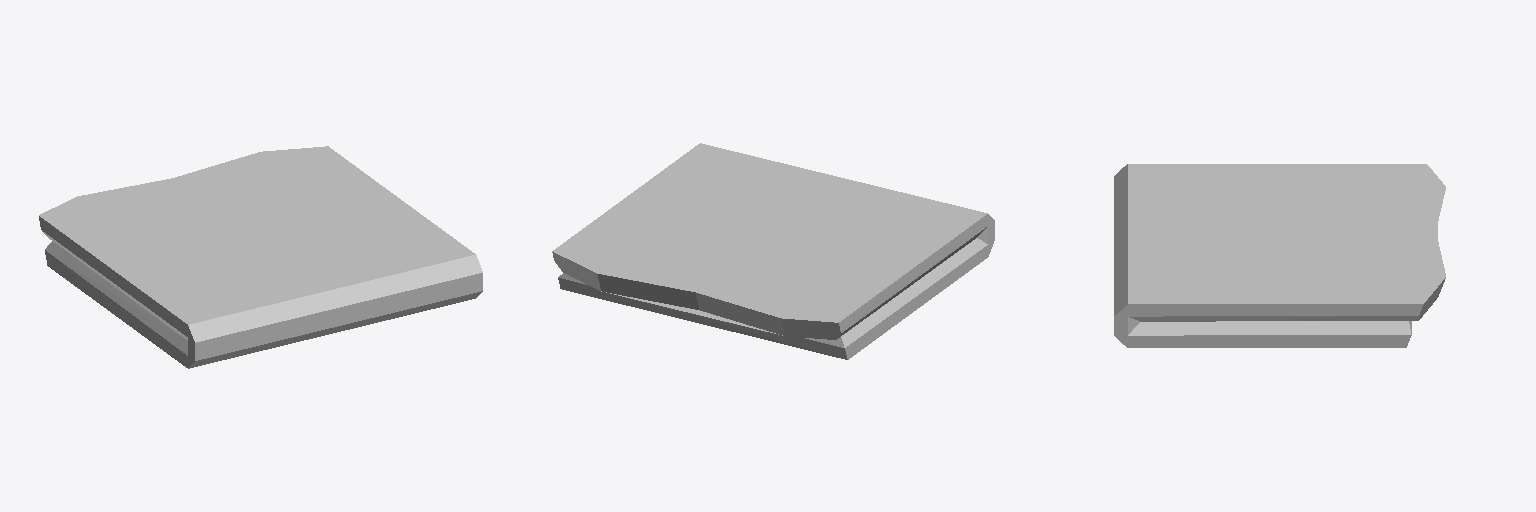
The model's file is simple folded shirt.obj.
3 renders of one model, left to right at view 1: azimuth 30°, elevation 25°; view 2: azimuth 150°, elevation 25°; view 3: azimuth 270°, elevation 25°, orthographic.
Visible parts, largest first — view 1: Folded_Shirt; view 2: Folded_Shirt; view 3: Folded_Shirt.
Part boxes in pixels (x1,y1,x2,y2): Folded_Shirt: (39, 146, 482, 368); Folded_Shirt: (552, 143, 994, 359); Folded_Shirt: (1114, 164, 1445, 347).
Bounding box in the file's own units: 2 × 0.2917 × 2.